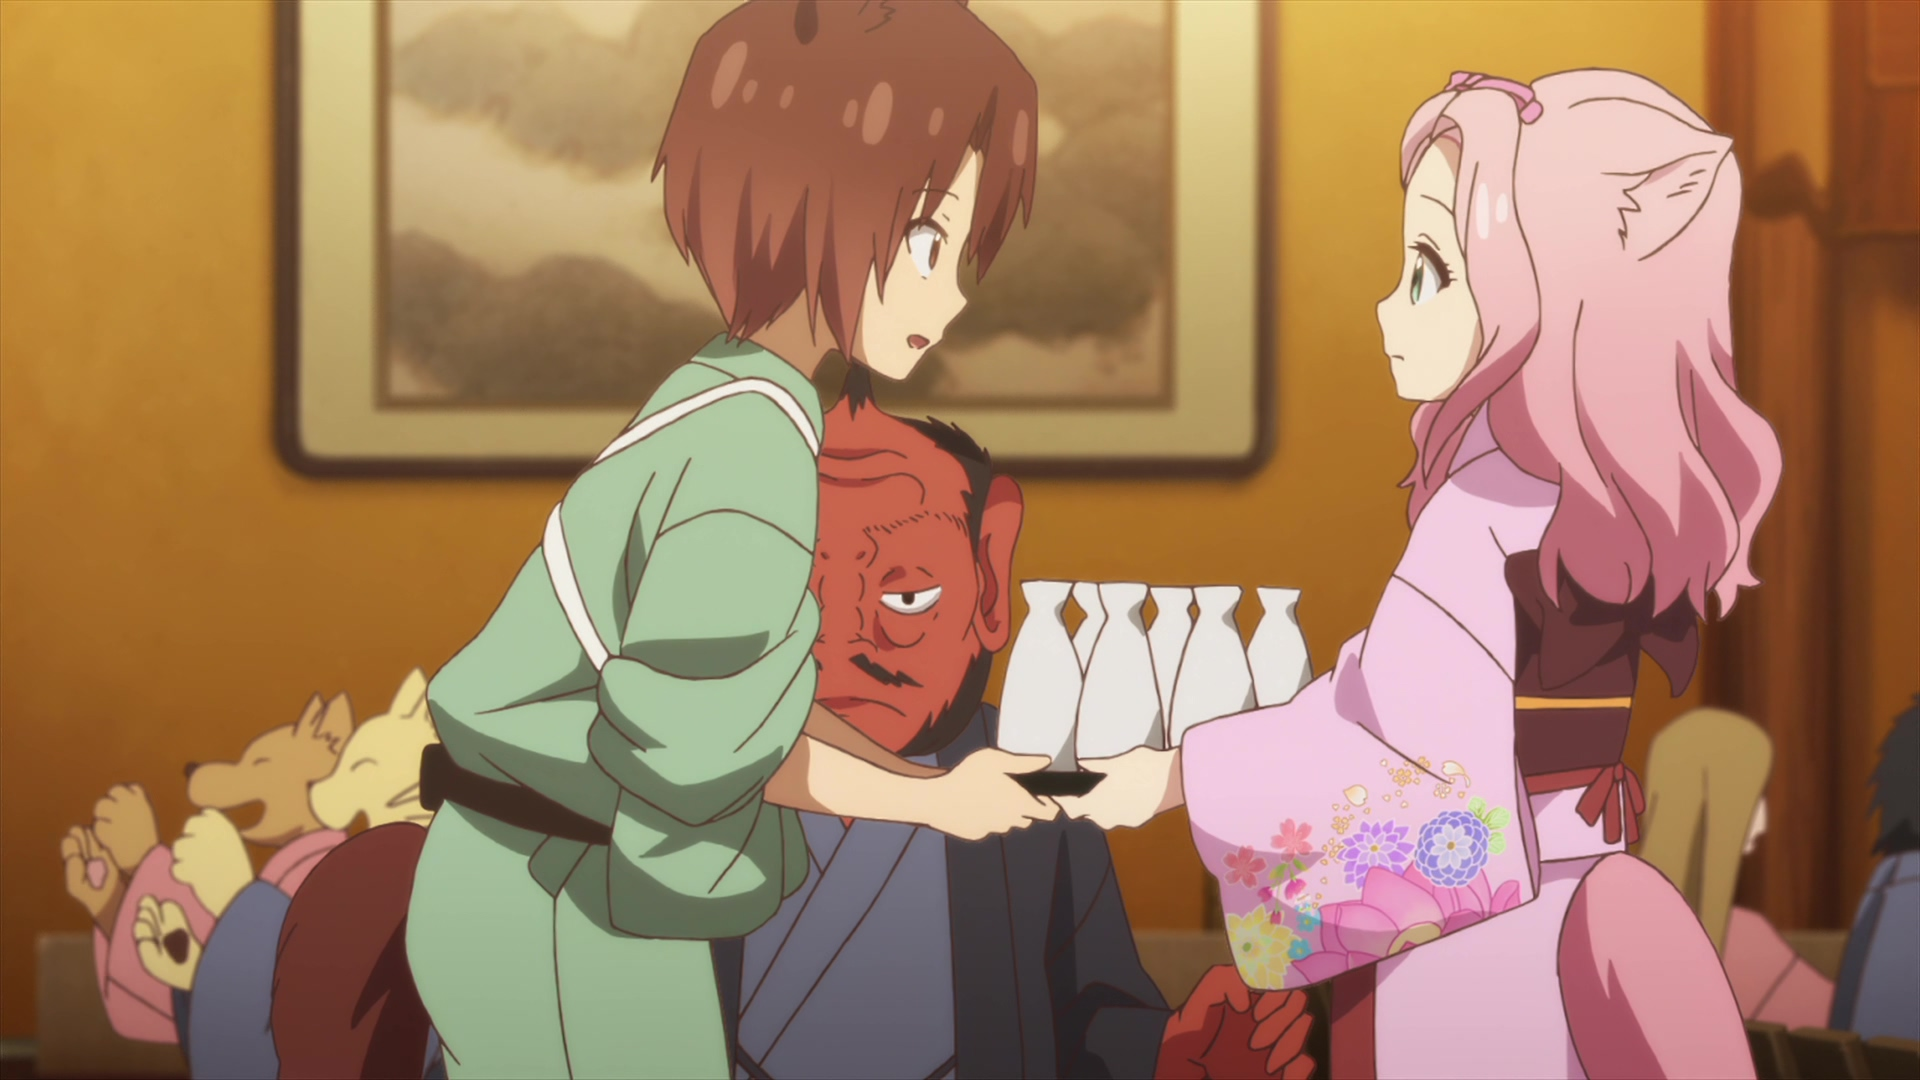其他: (712, 363, 1319, 1080), (137, 669, 438, 1080), (65, 695, 359, 1046), (1636, 709, 1832, 1033), (1830, 698, 1920, 1033)
枣: (269, 1, 1062, 1080)
莲: (1060, 69, 1785, 1080)
